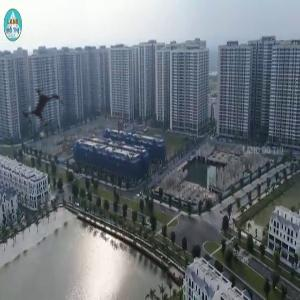drone: (5, 71, 85, 151)
